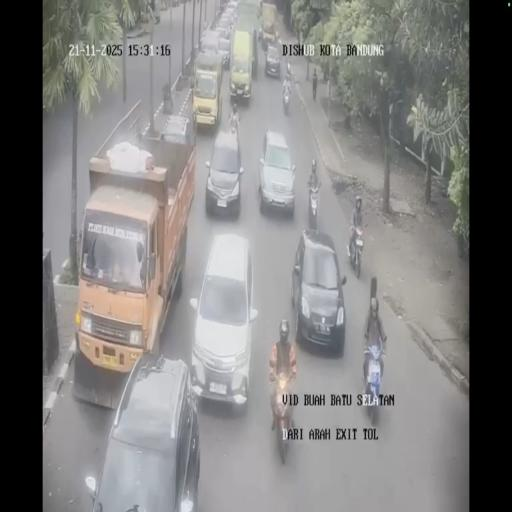3: (73, 102, 194, 397), (229, 29, 255, 103), (260, 1, 279, 49)
car: (88, 352, 200, 510), (189, 231, 257, 408), (291, 230, 346, 352), (204, 124, 244, 218), (258, 128, 294, 218), (199, 30, 222, 66), (217, 4, 237, 38), (264, 44, 281, 78)
truck: (270, 366, 296, 460), (361, 340, 385, 424), (348, 221, 364, 276), (307, 180, 320, 228), (282, 82, 291, 114), (285, 59, 291, 79)
